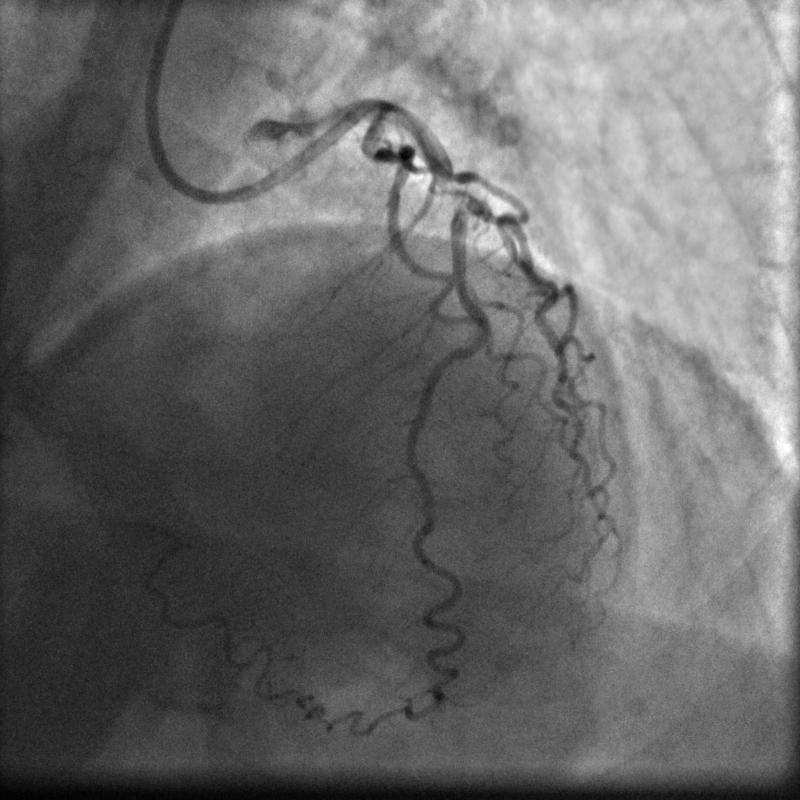Stenosis: (432, 175, 462, 199)
